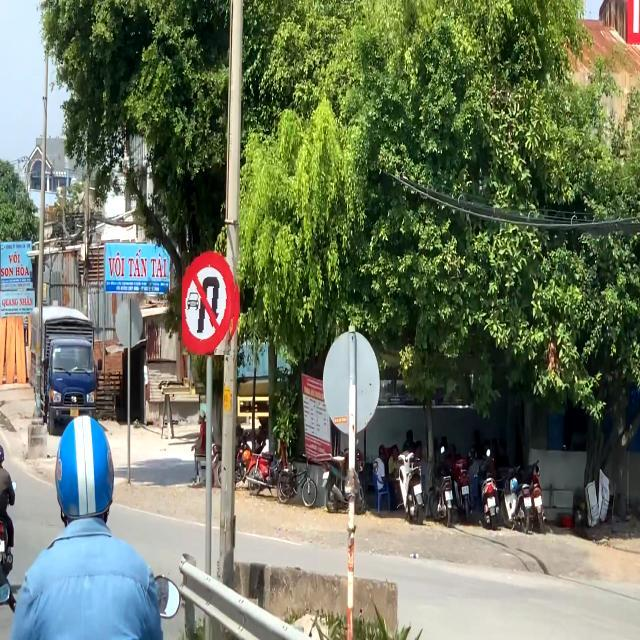P-124b: (182, 251, 240, 355)
